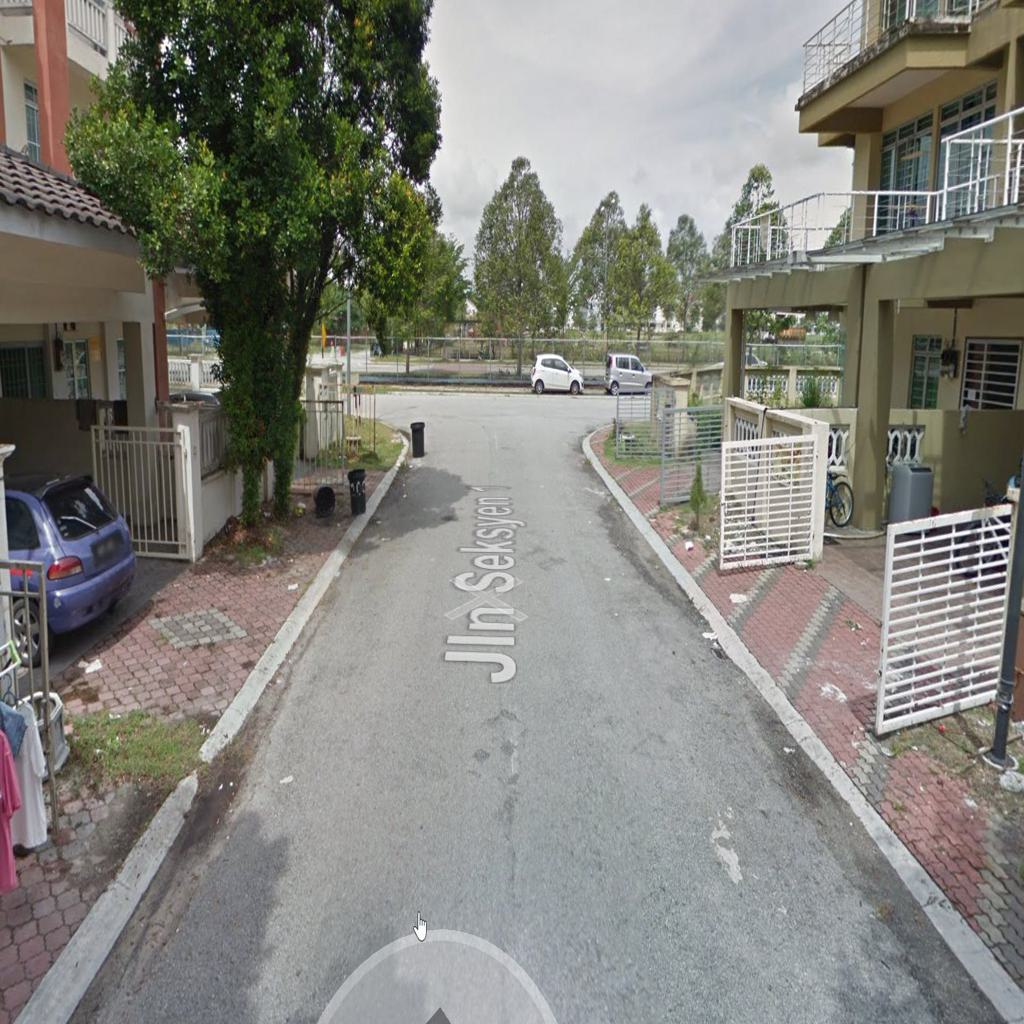Junction: (542, 357, 651, 447), (356, 371, 425, 438)
